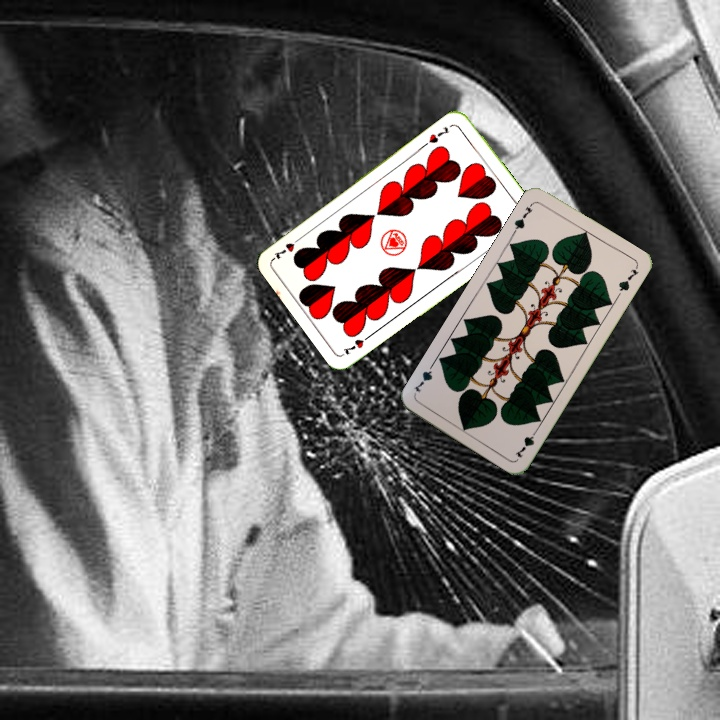G7: (511, 424, 541, 461), (509, 199, 536, 236)
H7: (339, 330, 375, 358), (420, 122, 453, 149)
